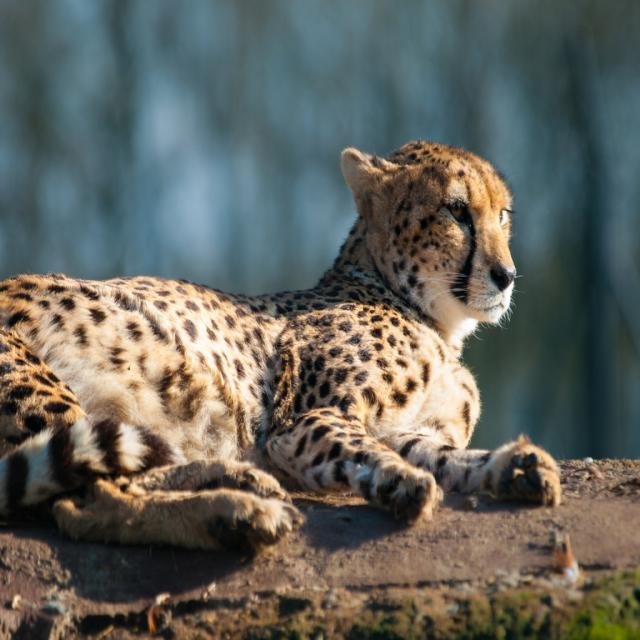Cheetah: (0, 111, 569, 583)
